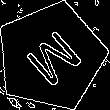M_SE: (16, 22, 86, 91)
